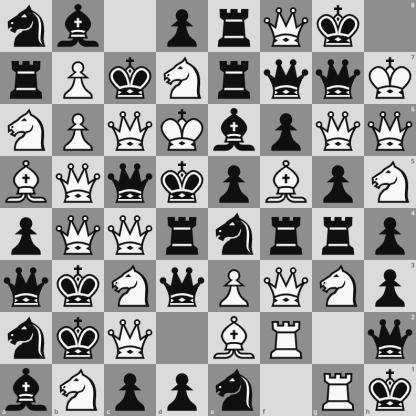B: (1, 157, 52, 208), (209, 313, 260, 364), (261, 157, 312, 208)
K: (364, 52, 416, 104), (157, 105, 208, 156)
N: (364, 156, 416, 209), (52, 364, 104, 416), (1, 105, 52, 156), (105, 261, 156, 312), (157, 53, 208, 104), (313, 261, 364, 312)
P: (53, 53, 104, 104), (53, 105, 104, 156), (209, 261, 260, 312)
Q: (364, 104, 416, 156), (53, 157, 104, 208), (53, 209, 104, 260), (105, 105, 156, 156), (105, 209, 156, 260), (105, 313, 156, 364), (261, 1, 312, 52), (261, 261, 312, 312), (313, 105, 364, 156)
R: (312, 364, 364, 416), (261, 313, 312, 364)
b: (0, 364, 52, 416), (53, 1, 104, 52), (209, 105, 260, 156)
board: (0, 0, 415, 415)
k: (364, 364, 416, 416), (53, 261, 104, 312), (53, 313, 104, 364), (105, 53, 156, 104), (157, 157, 208, 208), (313, 1, 364, 52)
n: (209, 364, 260, 416), (1, 1, 52, 52), (1, 313, 52, 364), (209, 209, 260, 260)
p: (156, 364, 209, 416), (104, 364, 156, 416), (364, 260, 416, 312), (364, 209, 416, 260), (1, 209, 52, 260), (157, 1, 208, 52), (209, 157, 260, 208), (261, 105, 312, 156), (313, 157, 364, 208)
q: (364, 312, 416, 364), (1, 261, 52, 312), (105, 157, 156, 208), (157, 261, 208, 312), (261, 53, 312, 104), (313, 53, 364, 104)
r: (1, 53, 52, 104), (157, 209, 208, 260), (209, 1, 260, 52), (209, 53, 260, 104), (261, 209, 312, 260), (313, 209, 364, 260)
